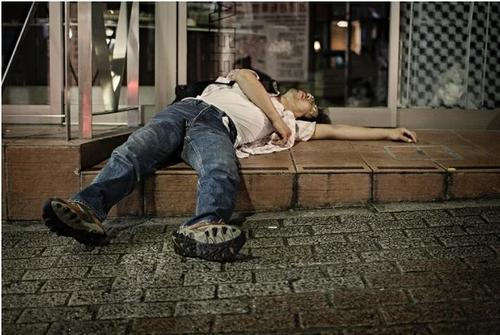Fall-Detected: (28, 60, 418, 263)
